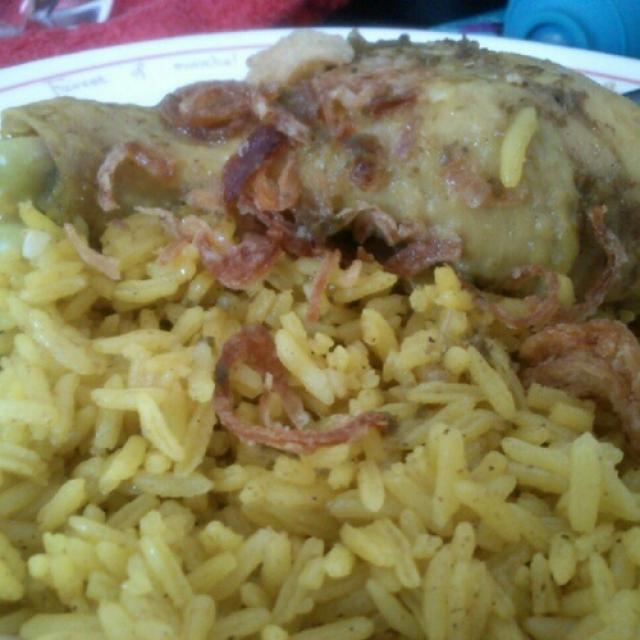米饭主食: (5, 21, 623, 631)
